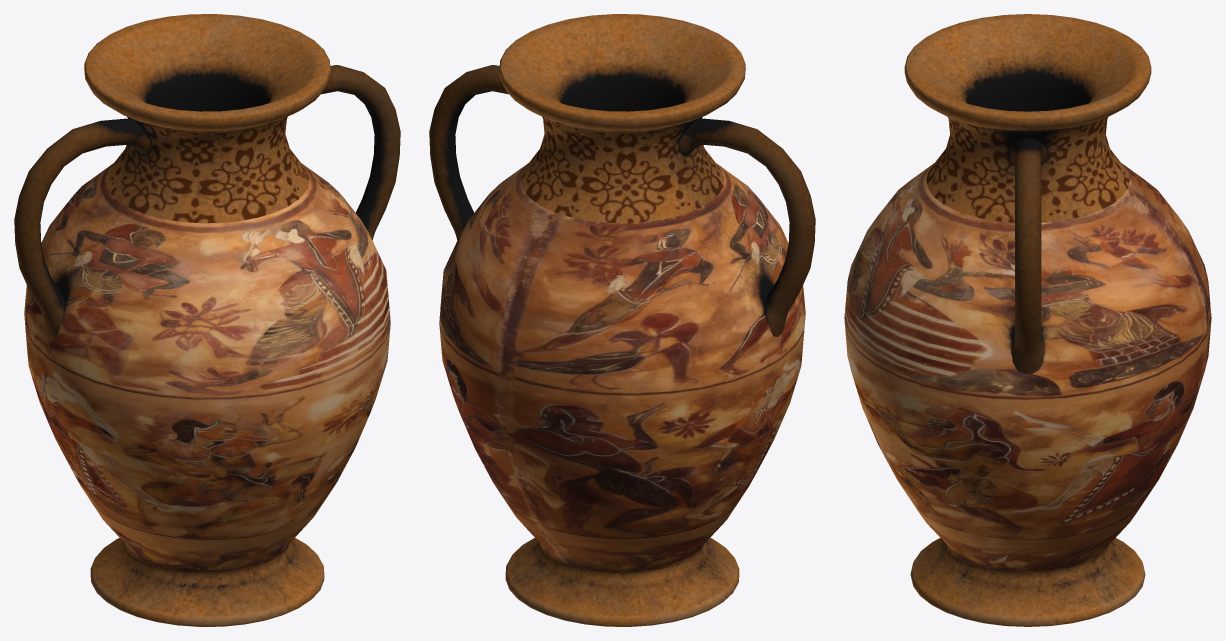
The model's file is jar.glb.
3 renders of one model, left to right at view 1: azimuth 30°, elevation 25°; view 2: azimuth 150°, elevation 25°; view 3: azimuth 270°, elevation 25°, orthographic.
Parts seen in each view (by area): view 1: HuaPing; view 2: HuaPing; view 3: HuaPing.
Boxes of the visible parts, box(x1,y1,x2,y2) form: HuaPing: box(14, 14, 400, 626); HuaPing: box(429, 14, 815, 626); HuaPing: box(844, 14, 1211, 626).
Bounding box in the file's own units: 3.77 × 4.84 × 3.13.
1 material, 1 textured.
